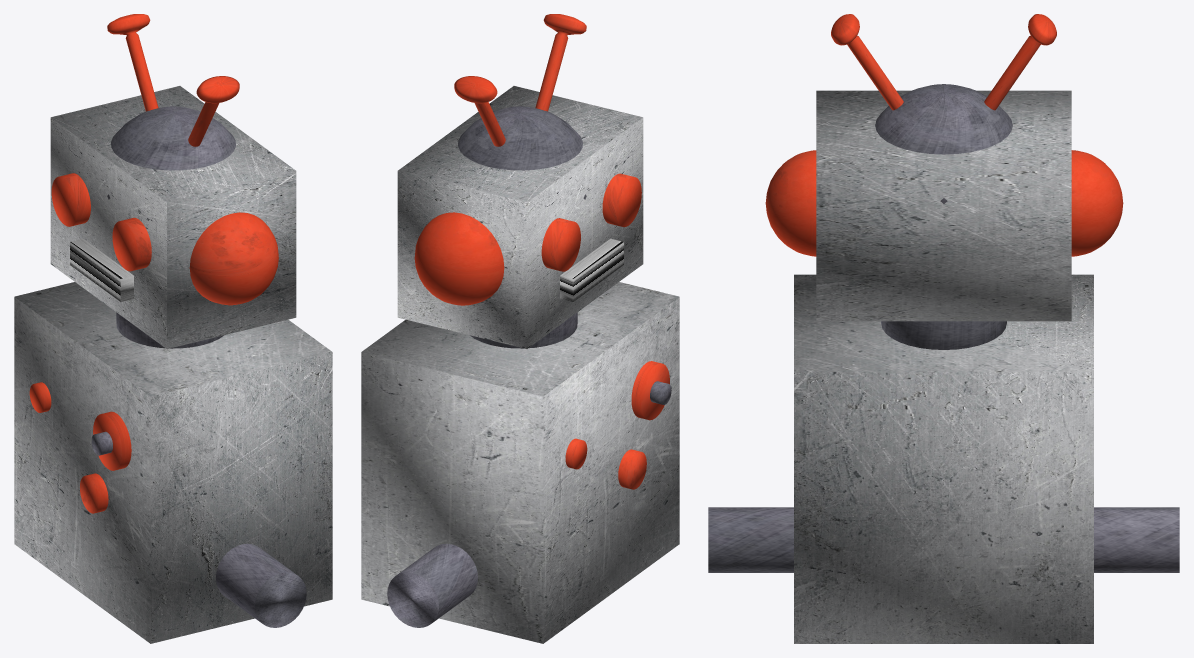
Rendered from robobody.glb.
The picture shows the model from 3 angles, left to right: view 1: azimuth 30°, elevation 25°; view 2: azimuth 150°, elevation 25°; view 3: azimuth 270°, elevation 25°; orthographic projection. The views are drawn at different scales.
Visible parts, largest first — view 1: Cube, Cube.001, Sphere.001, Sphere.002, Cylinder.007, Cube.002, Cylinder.008, Cylinder.001, Cylinder.002, Cylinder.009, Cylinder.005, Cylinder.004 (+2 smaller); view 2: Cube, Cube.001, Sphere, Sphere.002, Cylinder.007, Cube.002, Cylinder.009, Cylinder.001, Cylinder.002, Cylinder.008, Cylinder.005, Cylinder.004 (+2 smaller); view 3: Cube, Cube.001, Cylinder.007, Sphere.002, Sphere, Sphere.001, Cylinder, Cylinder.009, Cylinder.008.
Part boxes in pixels (x1,y1,x2,y2): Cube: [14, 282, 332, 643]; Cube.001: [50, 86, 296, 348]; Sphere.001: [189, 212, 278, 305]; Sphere.002: [107, 106, 235, 199]; Cylinder.007: [216, 543, 306, 627]; Cube.002: [70, 238, 133, 301]; Cylinder.008: [107, 14, 158, 111]; Cylinder.001: [51, 173, 90, 226]; Cylinder.002: [112, 217, 151, 271]; Cylinder.009: [188, 76, 239, 146]; Cylinder.005: [93, 411, 131, 470]; Cylinder.004: [80, 473, 108, 513]; Cube: [361, 282, 679, 643]; Cube.001: [397, 86, 643, 348]; Sphere: [414, 212, 504, 305]; Sphere.002: [458, 106, 586, 199]; Cylinder.007: [387, 543, 477, 627]; Cube.002: [560, 238, 623, 301]; Cylinder.009: [535, 14, 586, 111]; Cylinder.001: [541, 218, 580, 271]; Cylinder.002: [602, 173, 641, 227]; Cylinder.008: [454, 76, 505, 146]; Cylinder.005: [631, 361, 669, 420]; Cylinder.004: [618, 449, 646, 489]; Cube: [794, 274, 1093, 643]; Cube.001: [816, 90, 1071, 321]; Cylinder.007: [708, 507, 1179, 572]; Sphere.002: [875, 84, 1012, 203]; Sphere: [1071, 150, 1123, 256]; Sphere.001: [765, 150, 816, 256]; Cylinder: [881, 321, 1006, 349]; Cylinder.009: [831, 14, 903, 110]; Cylinder.008: [984, 14, 1056, 110].
Bounding box in the file's own units: 1.71 × 4.24 × 3.14.
Materials: 4 (4 with a texture image).
